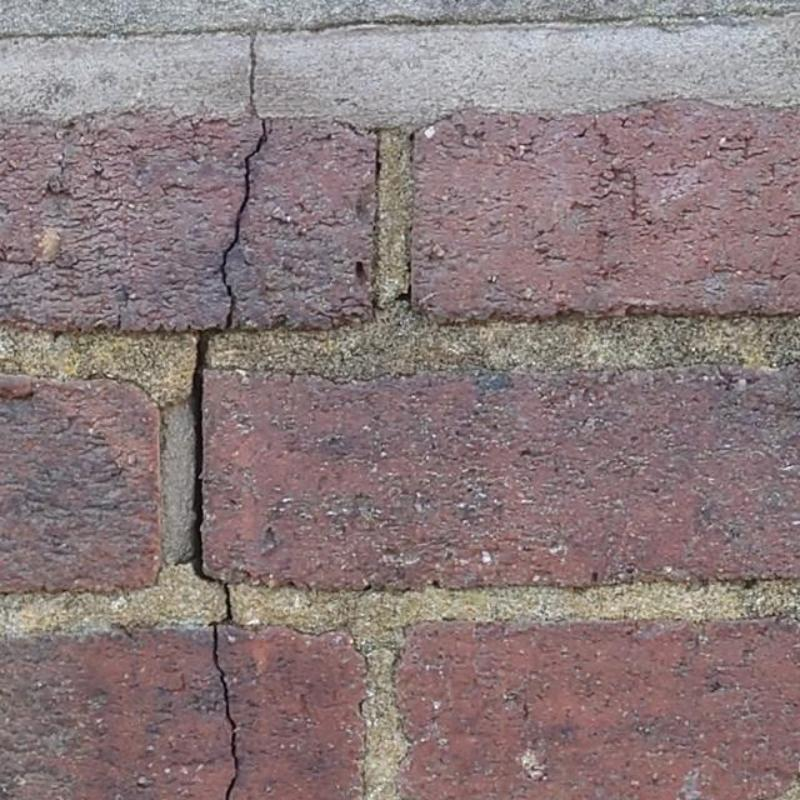crack: (175, 30, 269, 799)
